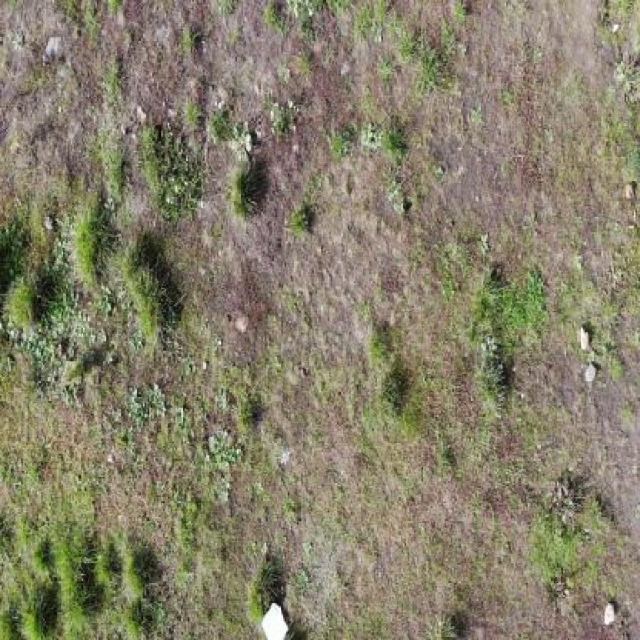Garbage: (262, 604, 288, 640)
